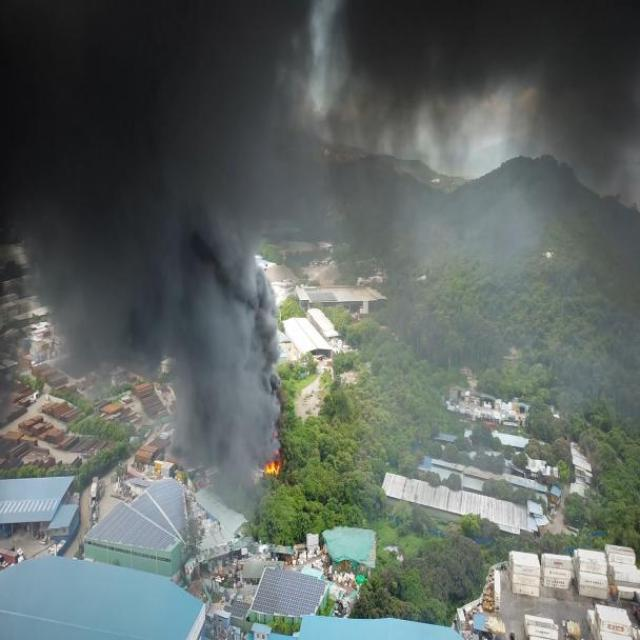Smoke: (142, 174, 279, 464)
